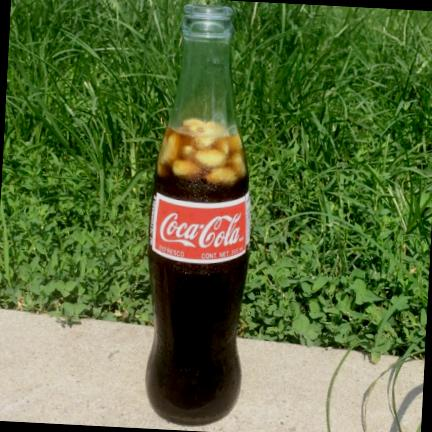container: (146, 6, 248, 425)
fluid: (145, 128, 249, 423)
fluid-surface: (173, 119, 236, 140)
